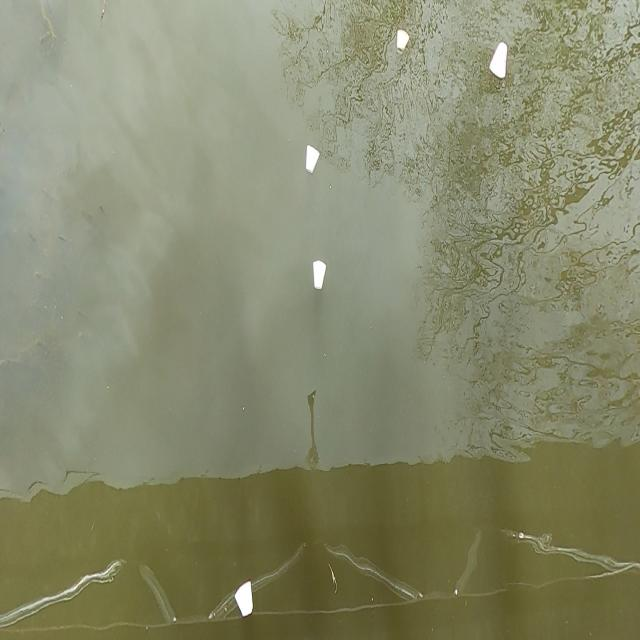Autre plastique: (488, 37, 508, 79), (235, 579, 256, 619), (305, 144, 322, 175), (314, 259, 330, 290), (396, 29, 412, 56)
